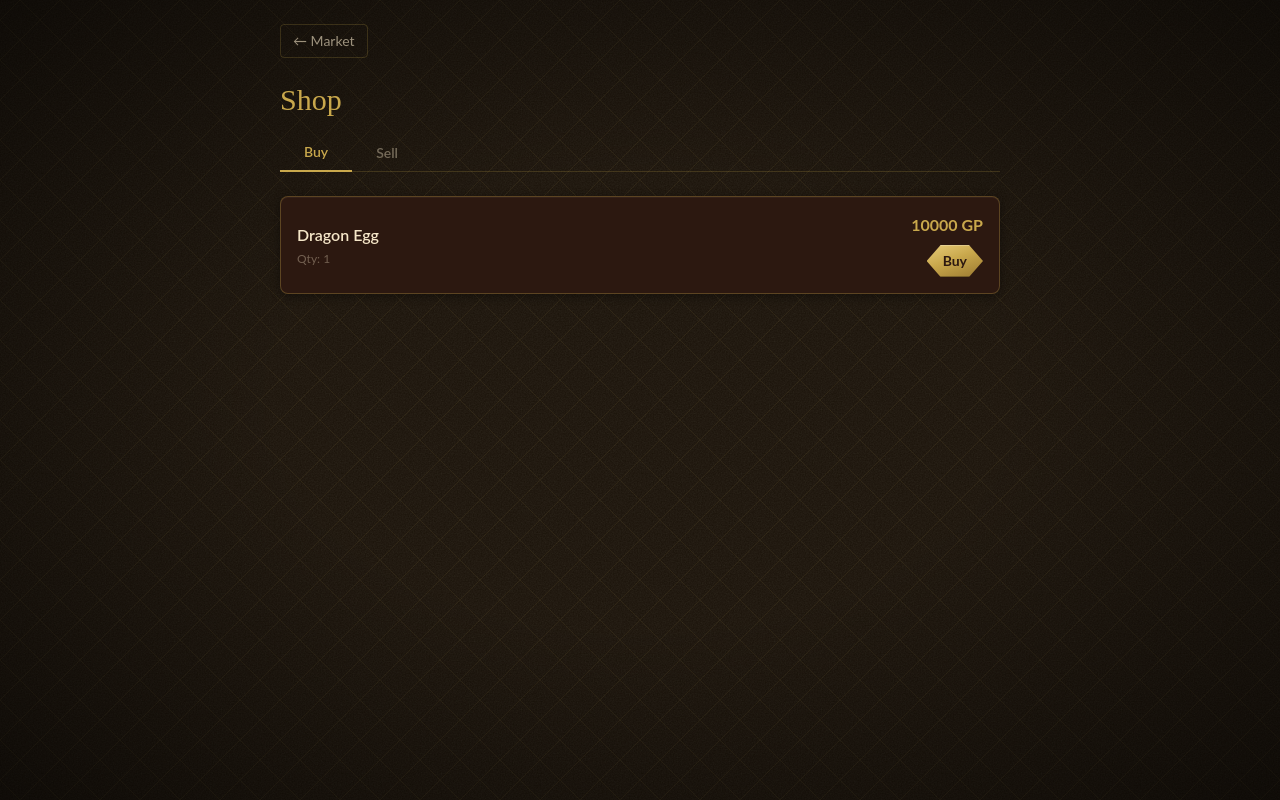
Scenario: StoreDetailPage — Buy tab › shows insufficient gold warning in modal when too expensive
Click the button "Buy" below "10000 GP". click: click(955, 261)
box: [927, 245, 983, 277]
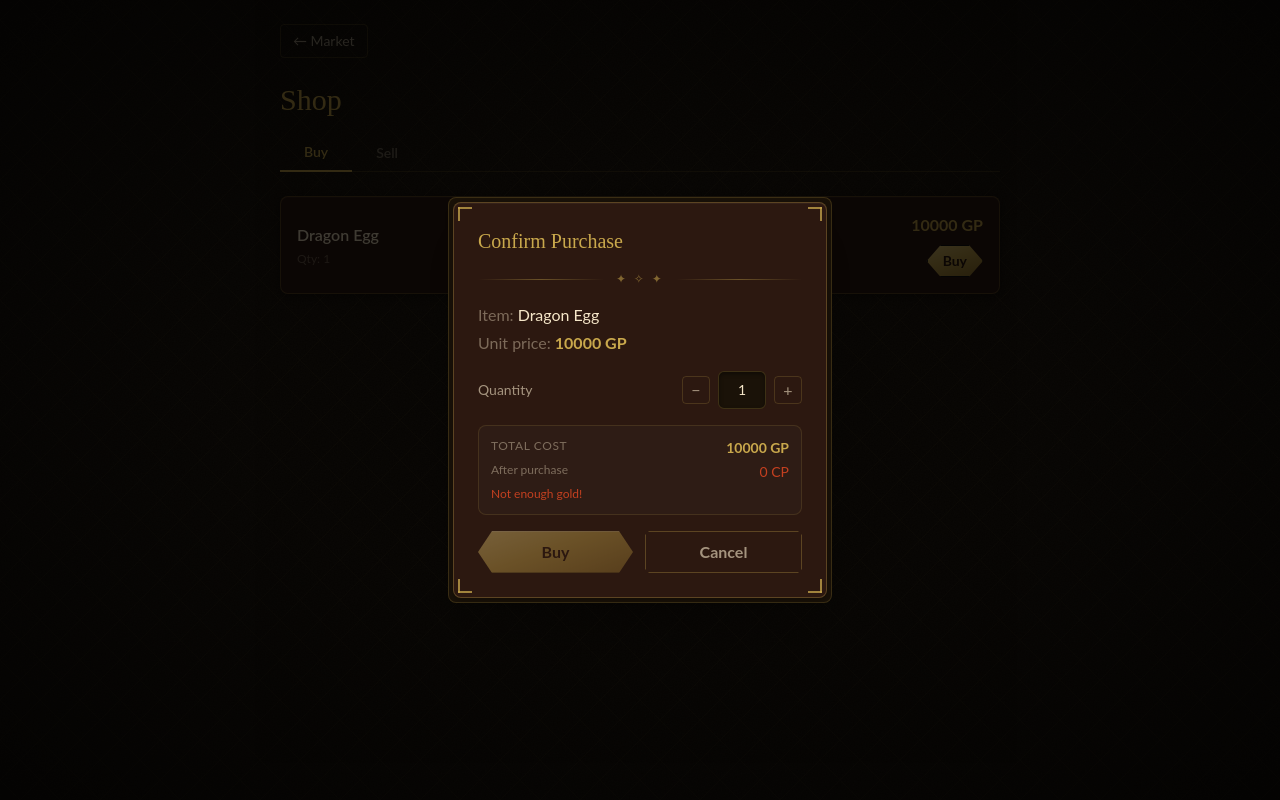
Now the text "Not enough gold!" is shown, box [491, 486, 582, 501]
